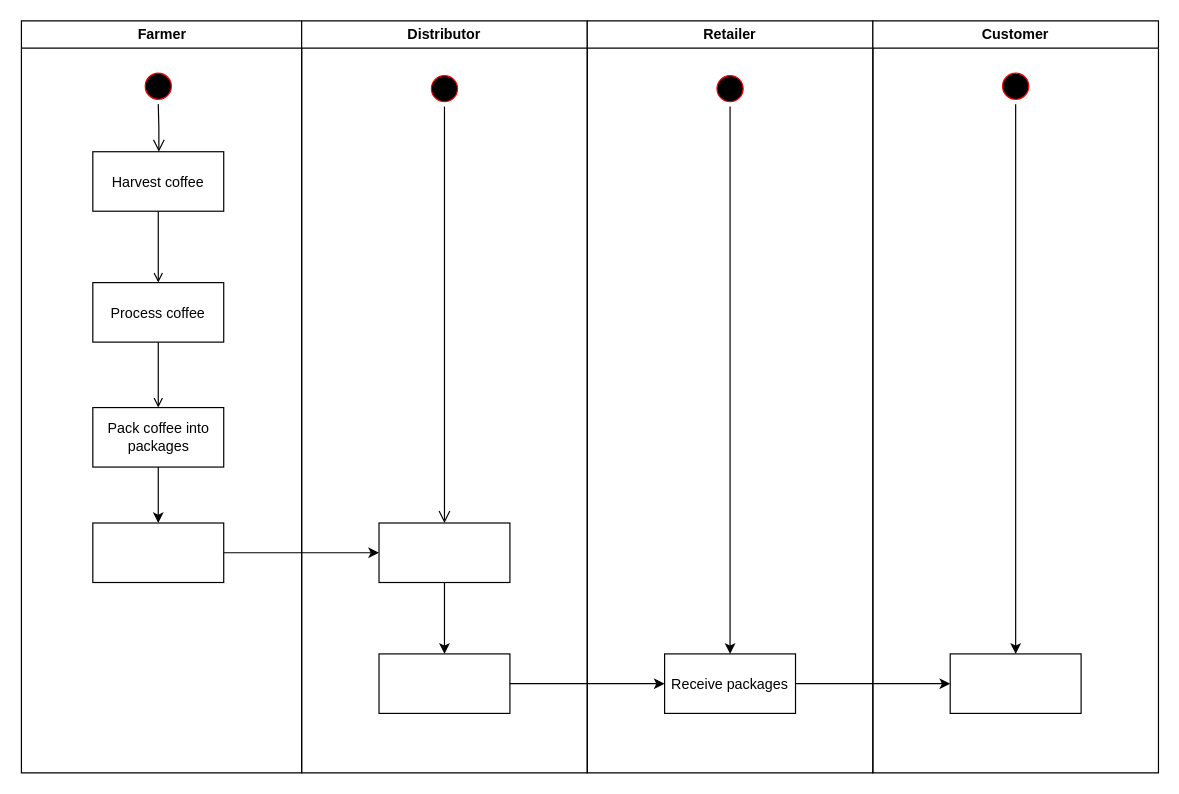
Image size: 1179x794. Some labels were removed from this diagram. Each missing label, with the centre of its shape:
"Buy" goes at pixel 444 552.
"Purchase" goes at pixel 1015 683.
"Sell coffee" goes at pixel 158 552.
"Ship packages" goes at pixel 444 683.
